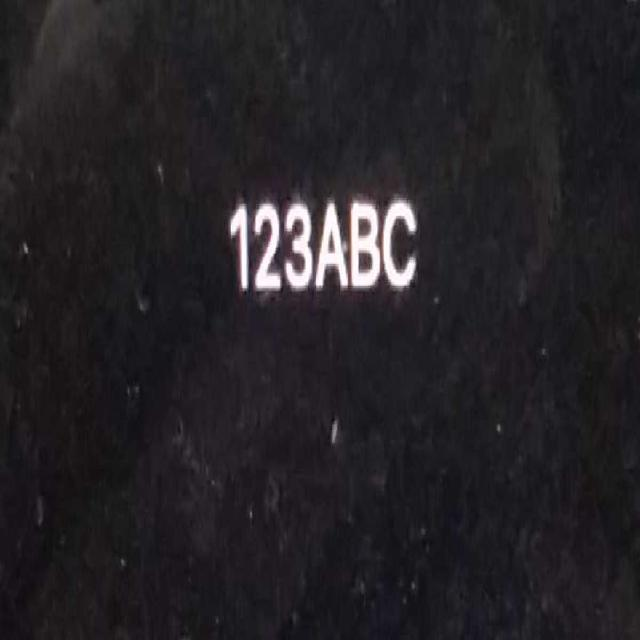license_plate: (230, 188, 420, 304)
